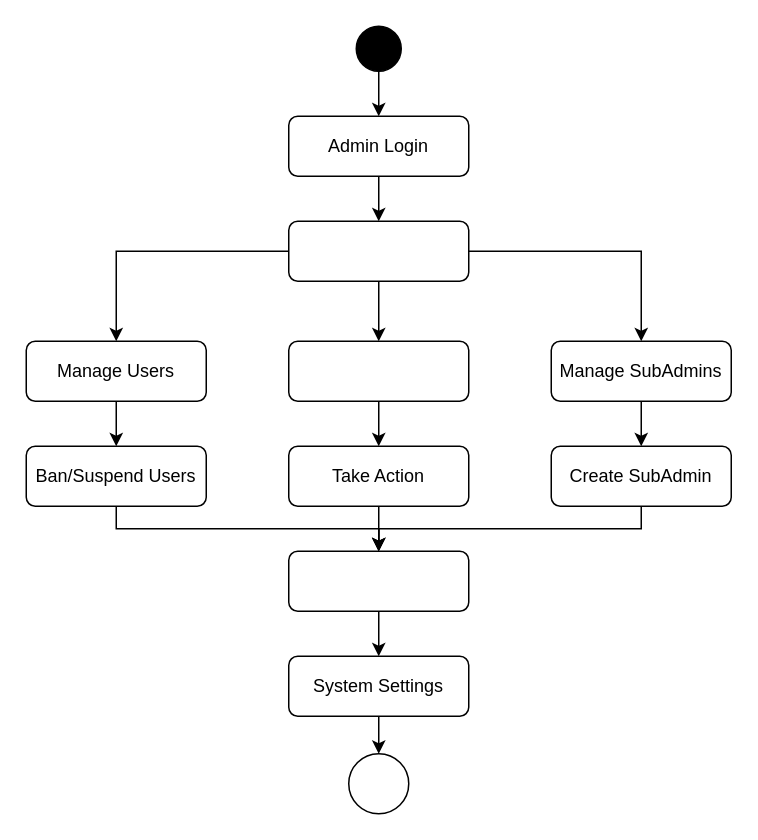
Image size: 758x840. Some labels were removed from this diagram. The shapes that lost their labels are listed below. From the top down, each one's box as (x1, y1, x2, y2) in pixels, then its label:
(287, 220, 469, 281): View Dashboard
(287, 340, 469, 401): Review Reports
(287, 550, 469, 611): View Analytics
